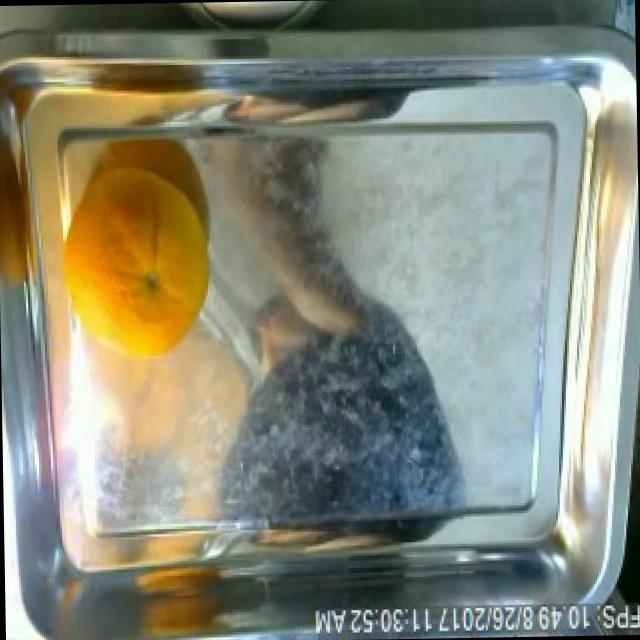Fruit: (185, 0, 322, 42)
